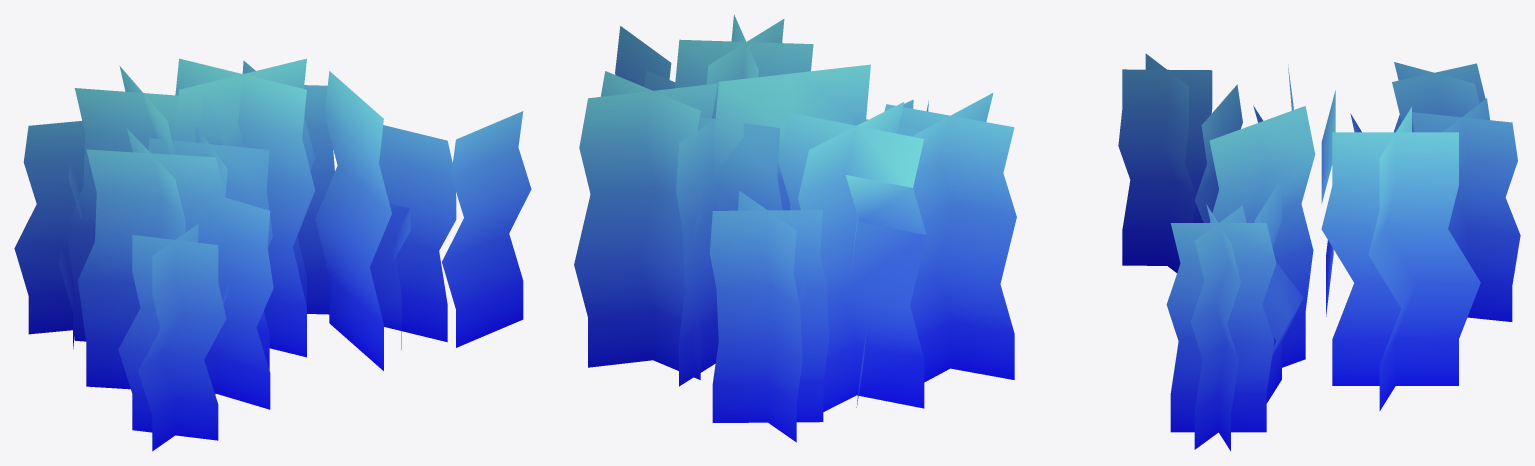
Rendered from SM_Env_Seaweed_03.gltf.
The picture shows the model from 3 angles, left to right: view 1: azimuth 30°, elevation 25°; view 2: azimuth 150°, elevation 25°; view 3: azimuth 270°, elevation 25°; orthographic projection. The views are drawn at different scales.
Visible parts, largest first — view 1: SM_Env_Seaweed_03_LOD0; view 2: SM_Env_Seaweed_03_LOD0; view 3: SM_Env_Seaweed_03_LOD0.
Boxes of the visible parts, x1,y1,x2,y2 form: SM_Env_Seaweed_03_LOD0: (14,58,531,451); SM_Env_Seaweed_03_LOD0: (574,14,1016,442); SM_Env_Seaweed_03_LOD0: (1118,53,1520,450).
Bounding box in the file's own units: 3.7 × 2.2 × 2.99.
